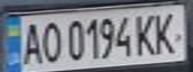0: (63, 16, 84, 61)
1: (81, 15, 100, 60)
4: (115, 12, 136, 57)
9: (97, 15, 118, 60)
A: (18, 19, 45, 66)
K: (151, 8, 184, 55), (133, 10, 160, 56)
O: (36, 18, 63, 64)
